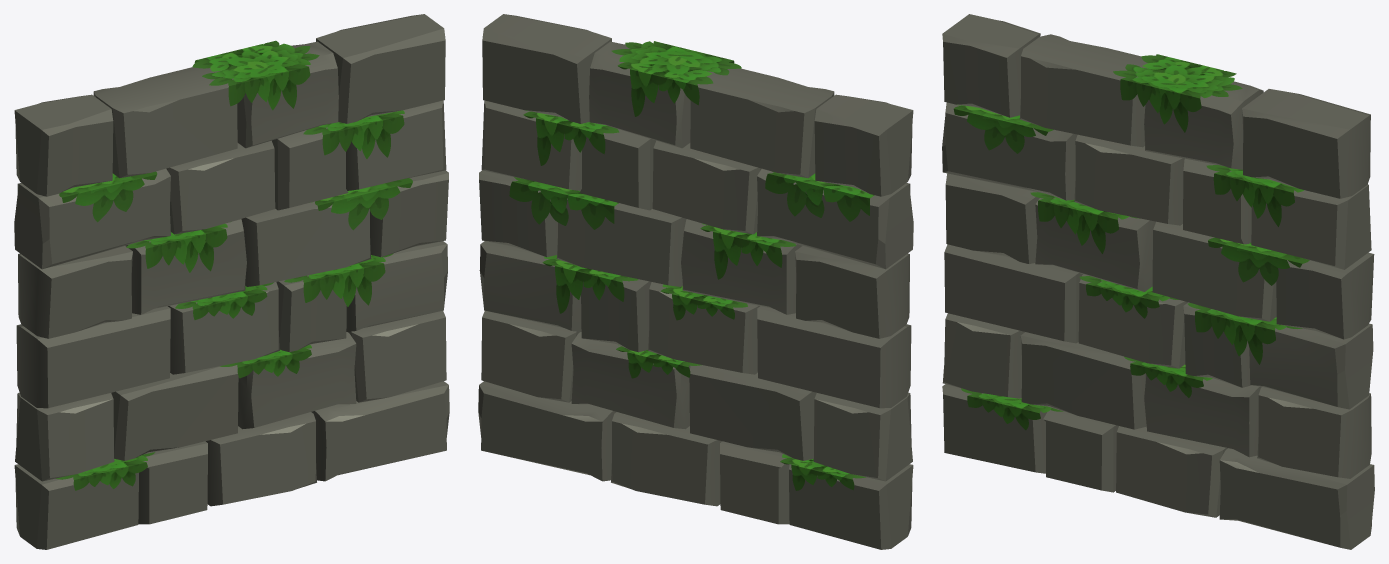
The model's file is wall.glb.
The picture shows the model from 3 angles, left to right: view 1: azimuth 30°, elevation 25°; view 2: azimuth 150°, elevation 25°; view 3: azimuth 330°, elevation 25°; orthographic projection.
Visible parts, largest first — view 1: Wall_Overgrown; view 2: Wall_Overgrown; view 3: Wall_Overgrown.
Boxes of the visible parts, box(x1,y1,x2,y2) form: Wall_Overgrown: box(14, 14, 449, 549); Wall_Overgrown: box(478, 14, 913, 549); Wall_Overgrown: box(942, 14, 1374, 549).
Bounding box in the file's own units: 1.99 × 1.98 × 0.304.
Materials: 3 (1 with a texture image).
